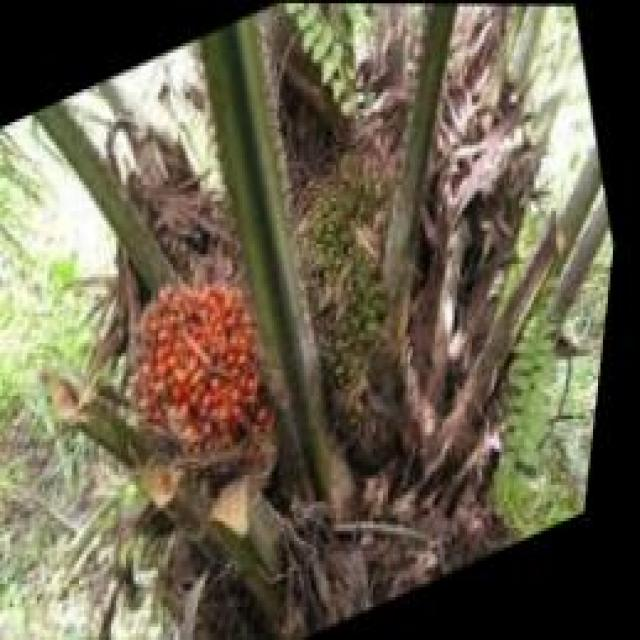Ripefruit: (119, 249, 299, 470)
